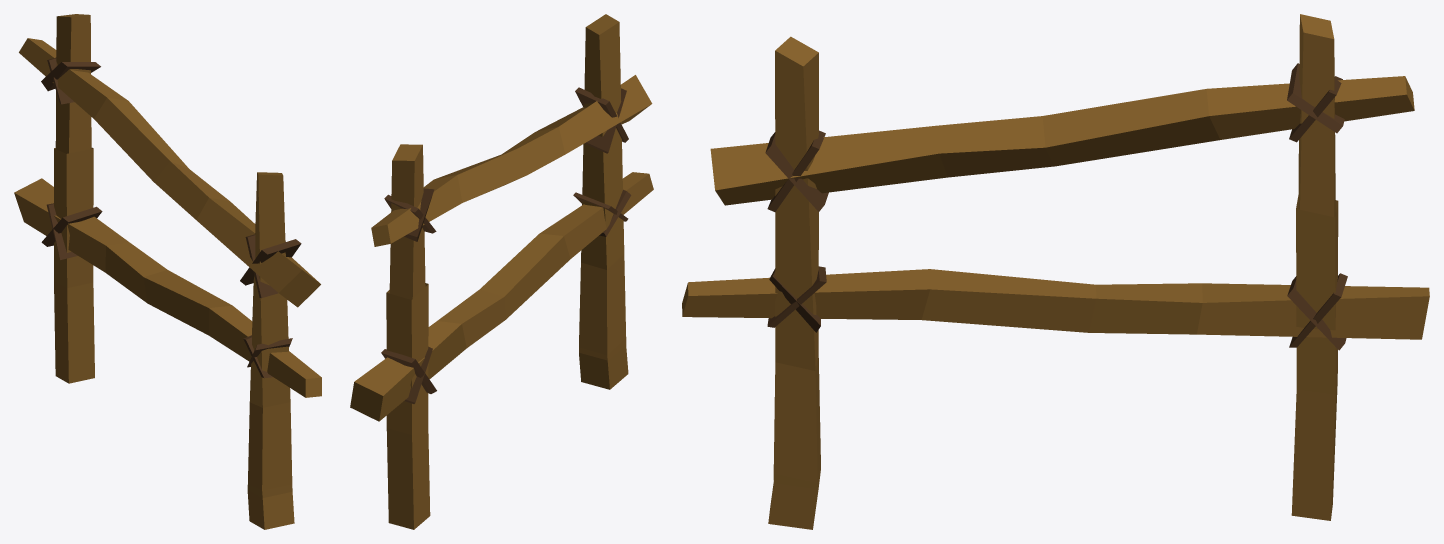
Rendered from Fence.fbx.
The picture shows the model from 3 angles, left to right: view 1: azimuth 30°, elevation 25°; view 2: azimuth 150°, elevation 25°; view 3: azimuth 270°, elevation 25°; orthographic projection. The views are drawn at different scales.
Parts seen in each view (by area): view 1: Cube.001; view 2: Cube.001; view 3: Cube.001.
Part boxes in pixels (box(x1,y1,x2,y2)): Cube.001: box(14, 14, 321, 529); Cube.001: box(350, 14, 653, 529); Cube.001: box(682, 14, 1429, 529).
Bounding box in the file's own units: 375 × 2929 × 3982.
